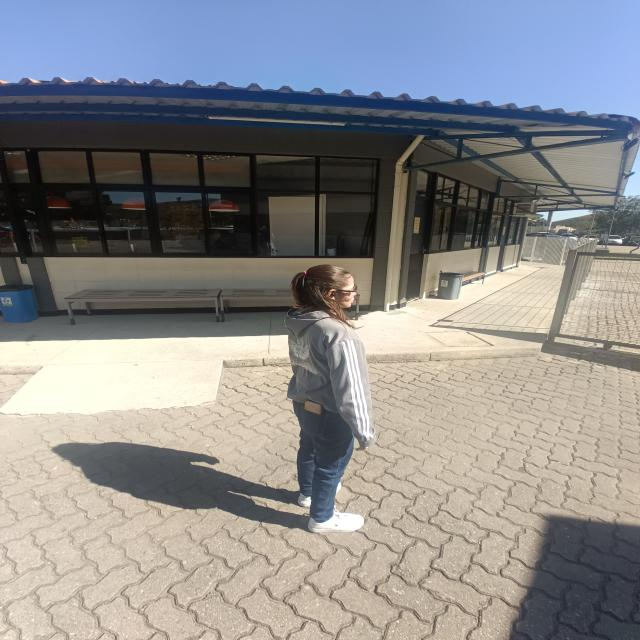oculos-epi: (336, 284, 357, 299)
